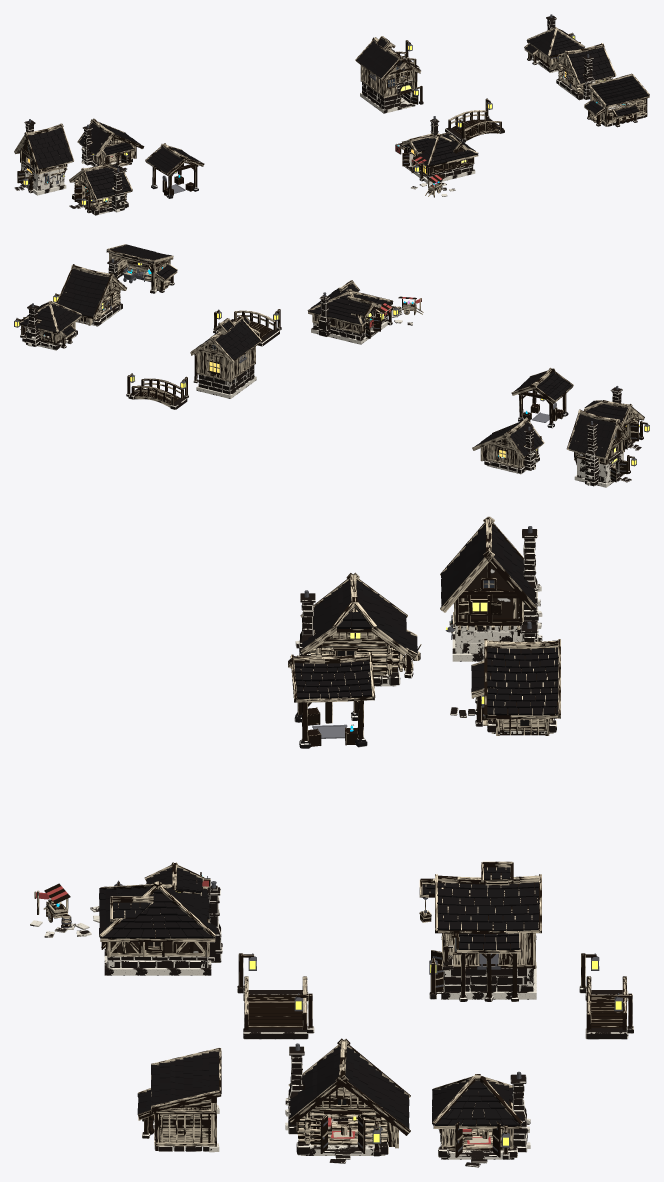
The model's file is LOBBY_07_BUILDINGS_9df2fe.fbx.
The picture shows the model from 3 angles, top to bottom: view 1: azimuth 30°, elevation 25°; view 2: azimuth 150°, elevation 25°; view 3: azimuth 270°, elevation 25°; orthographic projection. The views are drawn at different scales.
Parts seen in each view (by area): view 1: BLD_WheelHouse__Wood_Dark, BLD_Shop__Wood_Dark, BLD_Crystal_Shed__Roof, BLD_Crystal_Shed__Wood_Dark, BLD_Shop__Roof_Tile_Aged, BLD_Cabin_West_B__Wood_Dark, BLD_Cabin_West_B__Roof_Tile_Aged, BLD_Rail_Weigh_Station__Wood_Dark, BLD_Cabin_West_C__Wood_Dark, BLD_Cabin_East_A__Roof, BLD_WheelHouse__Roof, BLD_Cabin_East_B__Roof_Shingle_Dark (+17 smaller); view 2: BLD_WheelHouse__Wood_Dark, BLD_Shop__Wood_Dark, BLD_Cabin_East_A__Roof, BLD_Cabin_West_B__Stone_Dark, BLD_Shop__Roof_Tile_Aged, BLD_Cabin_West_C__Wood_Dark, BLD_Rail_Weigh_Station__Wood_Dark, BLD_Cabin_West_B__Wood_Dark, BLD_Cabin_West_B__Roof_Tile_Aged, BLD_WheelHouse__Roof, BLD_WheelHouse__Stone_Dark, BLD_Crystal_Shed__Wood_Dark (+20 smaller); view 3: BLD_WheelHouse__Roof, BLD_Shop__Roof_Tile_Aged, BLD_Cabin_West_C__Roof_Shingle_Dark, BLD_WheelHouse__Wood_Dark, BLD_Cabin_West_B__Wood_Dark, BLD_Shop__Wood_Dark, BLD_Cabin_East_A__Roof, BLD_Cabin_West_A__Roof, BLD_Cabin_East_A__Wood_Dark, BLD_Cabin_East_B__Roof_Shingle_Dark, BLD_Crystal_Shed__Wood_Dark, BLD_Crystal_Shed__Roof (+20 smaller).
Part boxes in pixels (left/top/right/bottom): BLD_WheelHouse__Wood_Dark: left=355, top=36, right=422, bottom=101; BLD_Shop__Wood_Dark: left=395, top=132, right=478, bottom=178; BLD_Crystal_Shed__Roof: left=585, top=75, right=648, bottom=116; BLD_Crystal_Shed__Wood_Dark: left=584, top=73, right=649, bottom=126; BLD_Shop__Roof_Tile_Aged: left=400, top=133, right=478, bottom=166; BLD_Cabin_West_B__Wood_Dark: left=14, top=123, right=74, bottom=190; BLD_Cabin_West_B__Roof_Tile_Aged: left=30, top=127, right=72, bottom=168; BLD_Rail_Weigh_Station__Wood_Dark: left=145, top=143, right=204, bottom=195; BLD_Cabin_West_C__Wood_Dark: left=77, top=118, right=144, bottom=165; BLD_Cabin_East_A__Roof: left=568, top=47, right=614, bottom=83; BLD_WheelHouse__Roof: left=356, top=38, right=417, bottom=78; BLD_Cabin_East_B__Roof_Shingle_Dark: left=527, top=29, right=584, bottom=56; BLD_WheelHouse__Wood_Dark: left=190, top=315, right=262, bottom=382; BLD_Shop__Wood_Dark: left=308, top=280, right=396, bottom=338; BLD_Cabin_East_A__Roof: left=58, top=268, right=109, bottom=316; BLD_Cabin_West_B__Stone_Dark: left=574, top=426, right=631, bottom=487; BLD_Shop__Roof_Tile_Aged: left=307, top=284, right=393, bottom=324; BLD_Cabin_West_C__Wood_Dark: left=472, top=417, right=544, bottom=468; BLD_Rail_Weigh_Station__Wood_Dark: left=511, top=367, right=573, bottom=423; BLD_Cabin_West_B__Wood_Dark: left=566, top=409, right=634, bottom=476; BLD_Cabin_West_B__Roof_Tile_Aged: left=568, top=414, right=615, bottom=457; BLD_WheelHouse__Roof: left=197, top=319, right=260, bottom=360; BLD_WheelHouse__Stone_Dark: left=193, top=365, right=256, bottom=398; BLD_Crystal_Shed__Wood_Dark: left=106, top=244, right=177, bottom=290; BLD_WheelHouse__Roof: left=422, top=867, right=539, bottom=950; BLD_Shop__Roof_Tile_Aged: left=99, top=867, right=216, bottom=938; BLD_Cabin_West_C__Roof_Shingle_Dark: left=471, top=647, right=558, bottom=725; BLD_WheelHouse__Wood_Dark: left=419, top=861, right=541, bottom=997; BLD_Cabin_West_B__Wood_Dark: left=440, top=516, right=536, bottom=635; BLD_Shop__Wood_Dark: left=99, top=862, right=216, bottom=956; BLD_Cabin_East_A__Roof: left=290, top=1046, right=409, bottom=1123; BLD_Cabin_West_A__Roof: left=302, top=580, right=417, bottom=656; BLD_Cabin_East_A__Wood_Dark: left=288, top=1038, right=410, bottom=1150; BLD_Cabin_East_B__Roof_Shingle_Dark: left=432, top=1079, right=523, bottom=1126; BLD_Crystal_Shed__Wood_Dark: left=138, top=1047, right=221, bottom=1150; BLD_Crystal_Shed__Roof: left=137, top=1051, right=221, bottom=1114.
Size of the model in its own units: 233 by 24.34 by 108.
18 materials, 4 textured.
